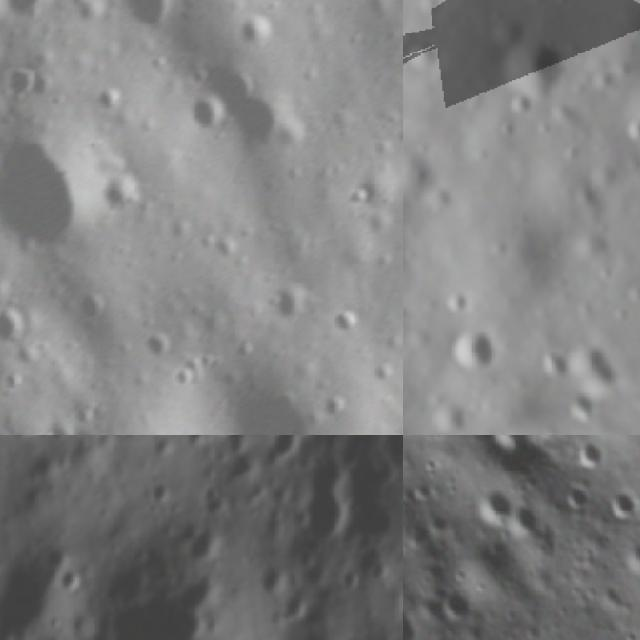crater: (0, 125, 99, 253), (88, 572, 219, 640), (286, 449, 361, 554), (497, 26, 584, 114), (442, 326, 504, 387), (227, 92, 280, 155), (462, 474, 520, 530), (556, 472, 606, 524), (434, 573, 482, 626), (467, 435, 543, 465), (264, 278, 310, 324), (403, 34, 446, 79), (422, 399, 473, 435), (601, 479, 640, 526), (190, 95, 225, 146), (568, 435, 611, 475), (76, 286, 113, 330), (235, 6, 275, 46), (254, 562, 292, 602), (5, 66, 41, 106), (370, 435, 403, 478), (536, 349, 572, 388), (0, 301, 31, 346), (326, 298, 360, 338), (102, 178, 138, 215), (126, 0, 173, 27), (140, 327, 174, 360), (438, 290, 471, 323), (170, 366, 200, 396), (2, 0, 53, 17), (505, 94, 532, 125), (620, 114, 640, 151), (35, 418, 72, 435), (337, 629, 380, 640), (403, 305, 413, 328)
